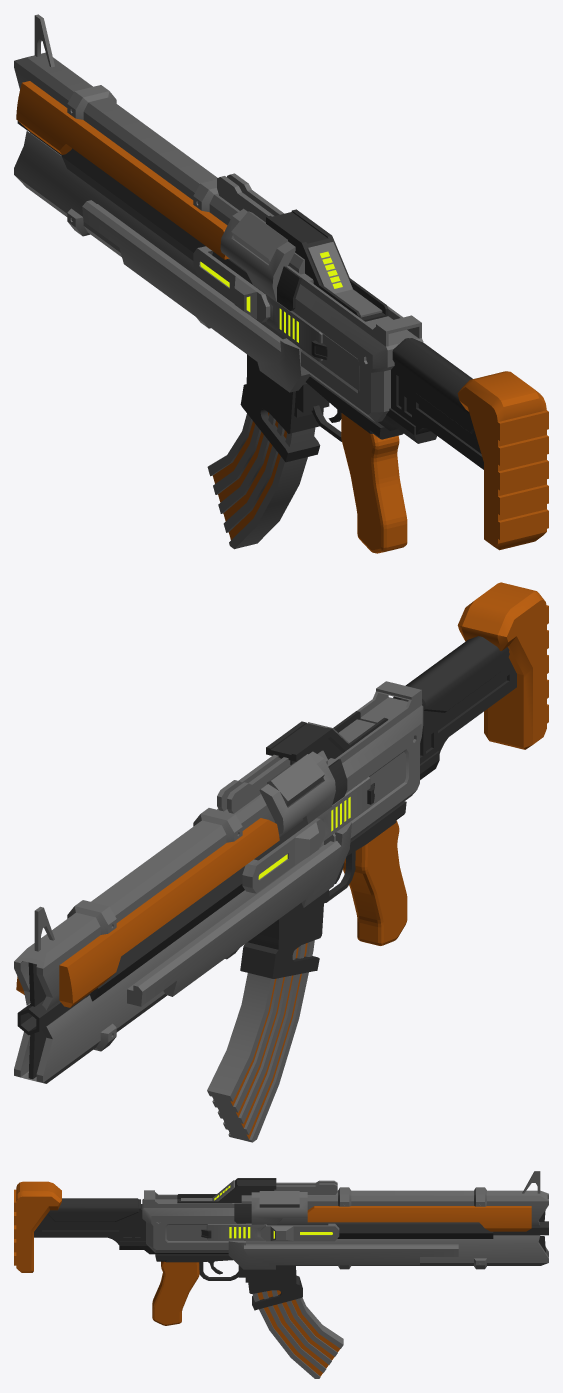
Rendered from ev-auto-rifle.glb.
3 renders of one model, top to bottom at view 1: azimuth 30°, elevation 25°; view 2: azimuth 150°, elevation 25°; view 3: azimuth 270°, elevation 25°, orthographic. The views are drawn at different scales.
Visible parts, largest first — view 1: Auto Rifle - original mesh; view 2: Auto Rifle - original mesh; view 3: Auto Rifle - original mesh.
Boxes of the visible parts, left/top/right/bottom form: Auto Rifle - original mesh: left=14, top=14, right=548, bottom=553; Auto Rifle - original mesh: left=14, top=582, right=548, bottom=1142; Auto Rifle - original mesh: left=14, top=1171, right=548, bottom=1378.
Size of the model in its own units: 0.0779 by 0.3748 by 0.89.
